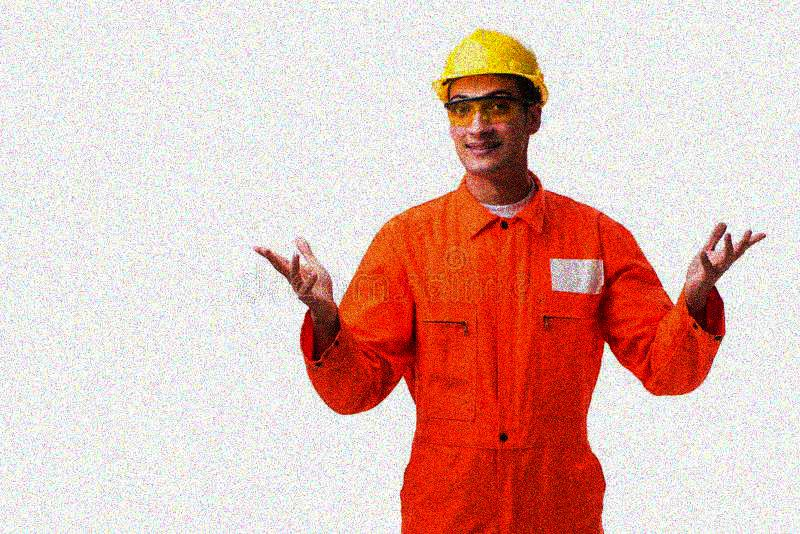helmet: (429, 27, 550, 176)
